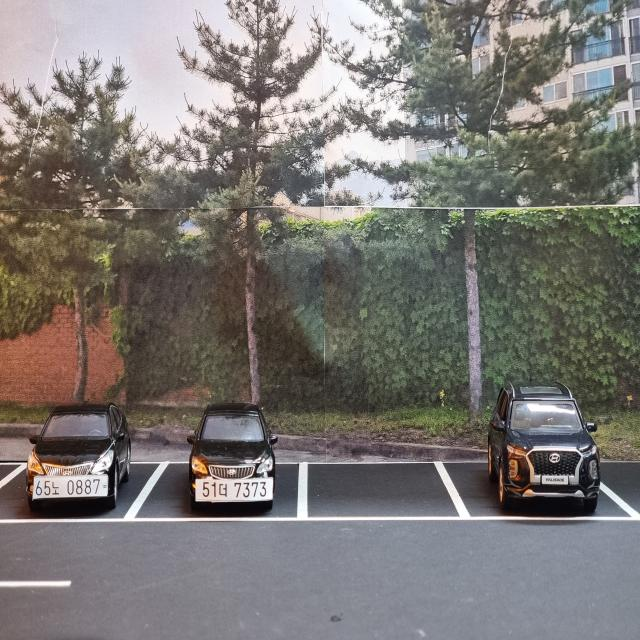empty: (294, 459, 471, 523)
occupied: (462, 372, 618, 513), (11, 370, 150, 524), (159, 382, 304, 517)
